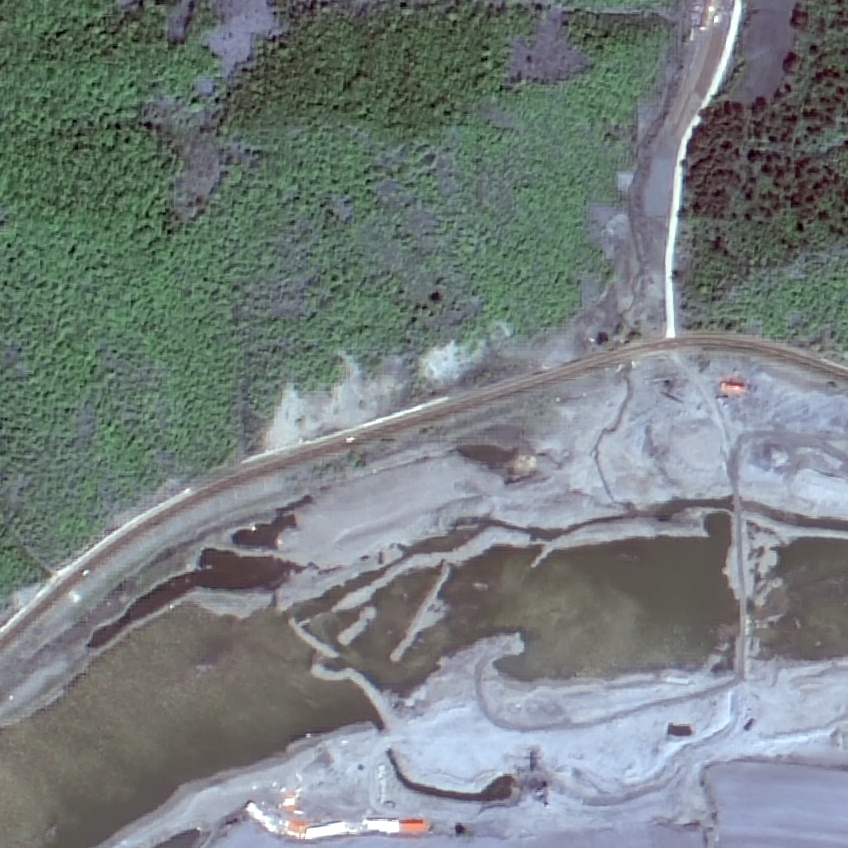slope: (257, 343, 410, 449), (414, 316, 512, 391)
